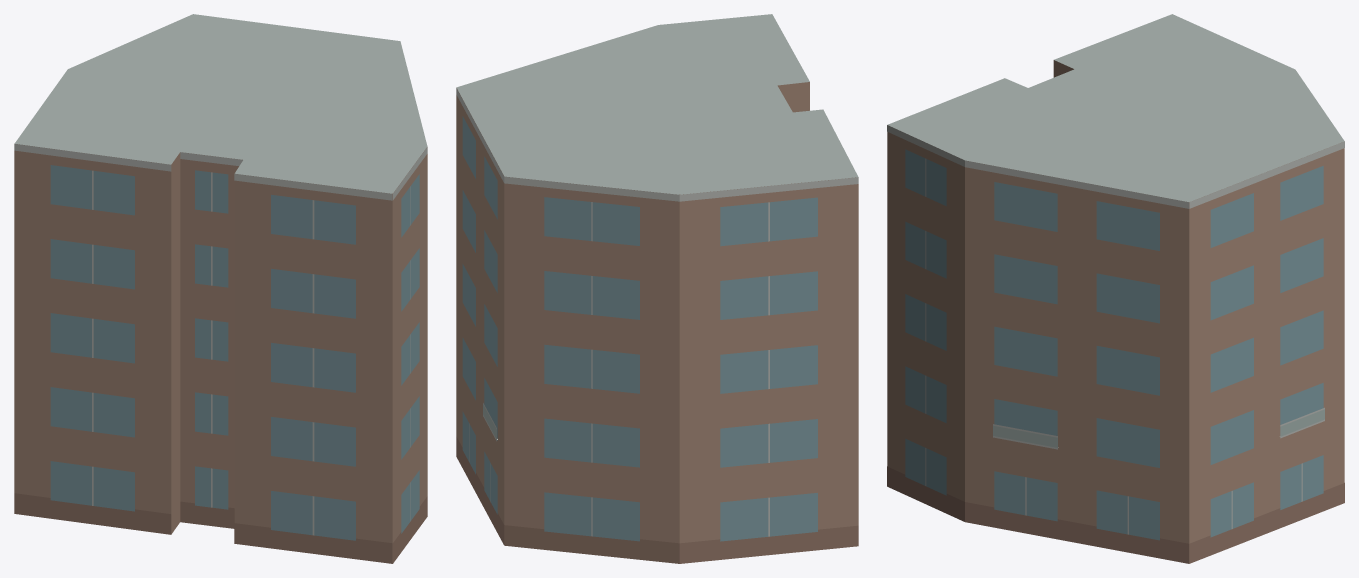
Rendered from survey-upis-32967924.glb.
3 renders of one model, left to right at view 1: azimuth 30°, elevation 25°; view 2: azimuth 150°, elevation 25°; view 3: azimuth 270°, elevation 25°, orthographic. The views are drawn at different scales.
Parts seen in each view (by area): view 1: survey-upis-32967924.tmp; view 2: survey-upis-32967924.tmp; view 3: survey-upis-32967924.tmp.
Boxes of the visible parts, x1,y1,x2,y2 form: survey-upis-32967924.tmp: (14,14,427,563); survey-upis-32967924.tmp: (456,14,858,563); survey-upis-32967924.tmp: (887,14,1344,563).
Bounding box in the file's own units: 14.63 × 13.1 × 15.03.
